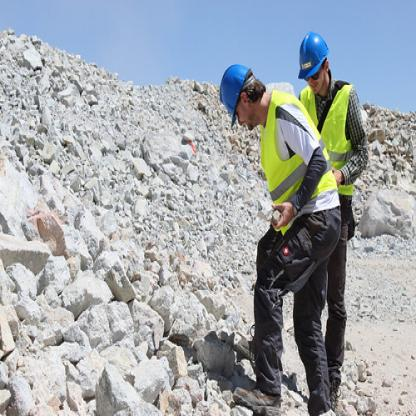person: (203, 54, 339, 406)
